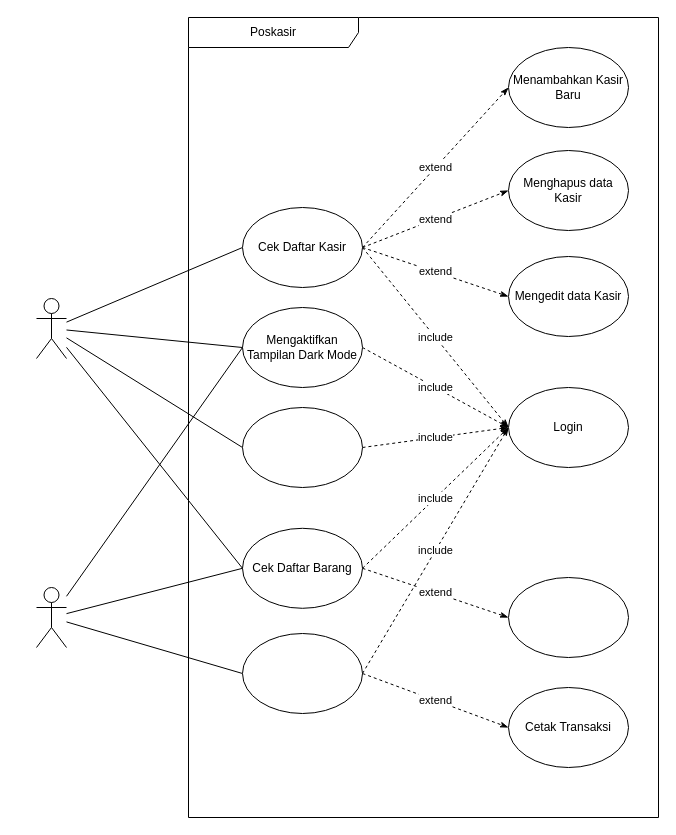
Some shapes in this 676 by 835 pixel diagram are drawn without their labels. The shapes that lost their labels are listed below. From the top down, each one's box as (x1, y1, x2, y2) in pixels, then its label:
(36, 298, 66, 358): Super Admin
(242, 406, 362, 488): Cek Keuntungan
(36, 586, 66, 648): Kasir
(508, 576, 628, 658): Cetak Daftar Barang
(242, 632, 362, 714): Melakukan Transaksi
